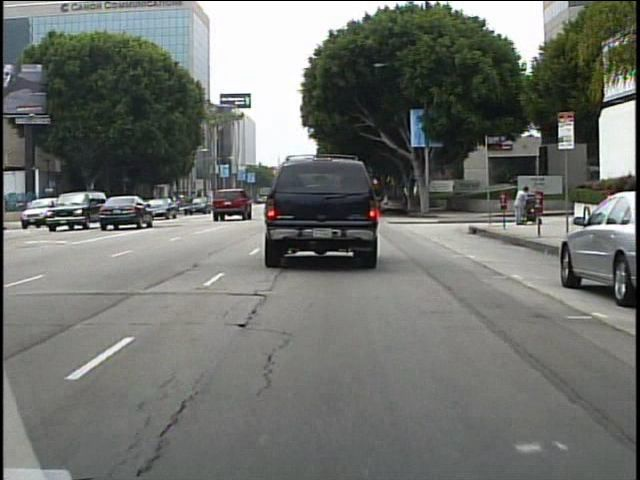person: (511, 180, 531, 229)
